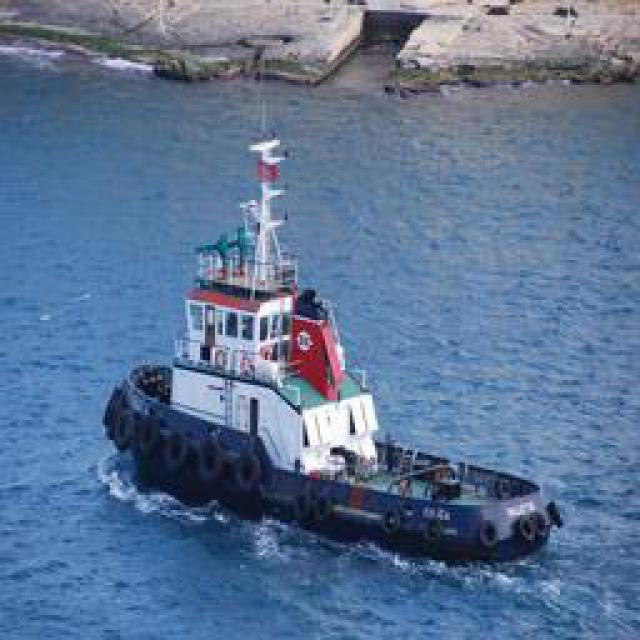Ship: (109, 101, 562, 554)
